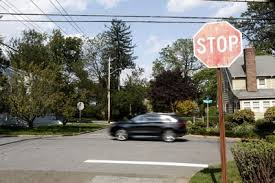stop: (192, 20, 244, 70)
